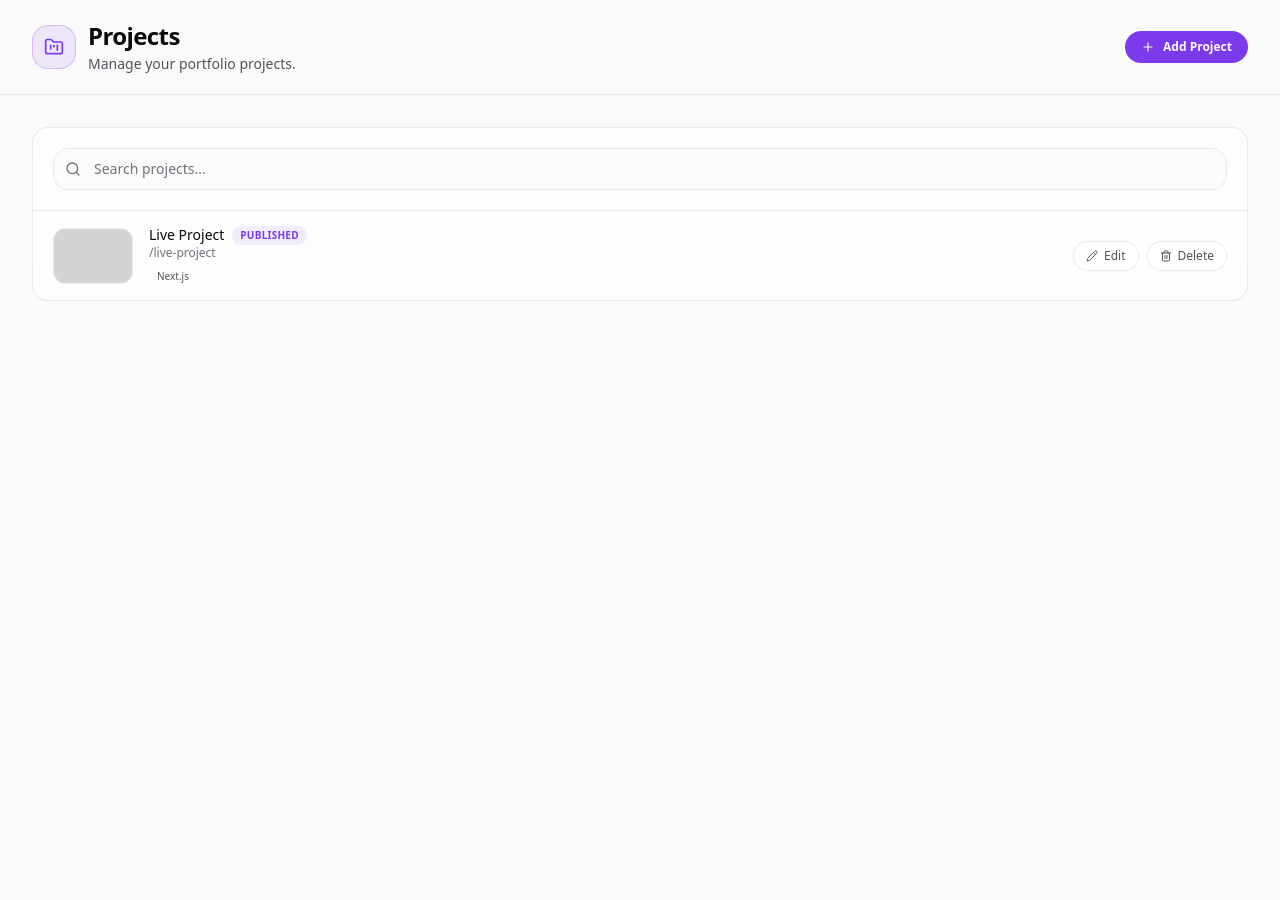
Test: ProjectsList setelah migrasi ke ConfirmActionDialog › cancel menutup dialog tanpa menghapus
What coordinates should you click on to do the following:
click the button "Delete"
I would click on:
 (1187, 256)
Its box is [1146,240,1227,270].
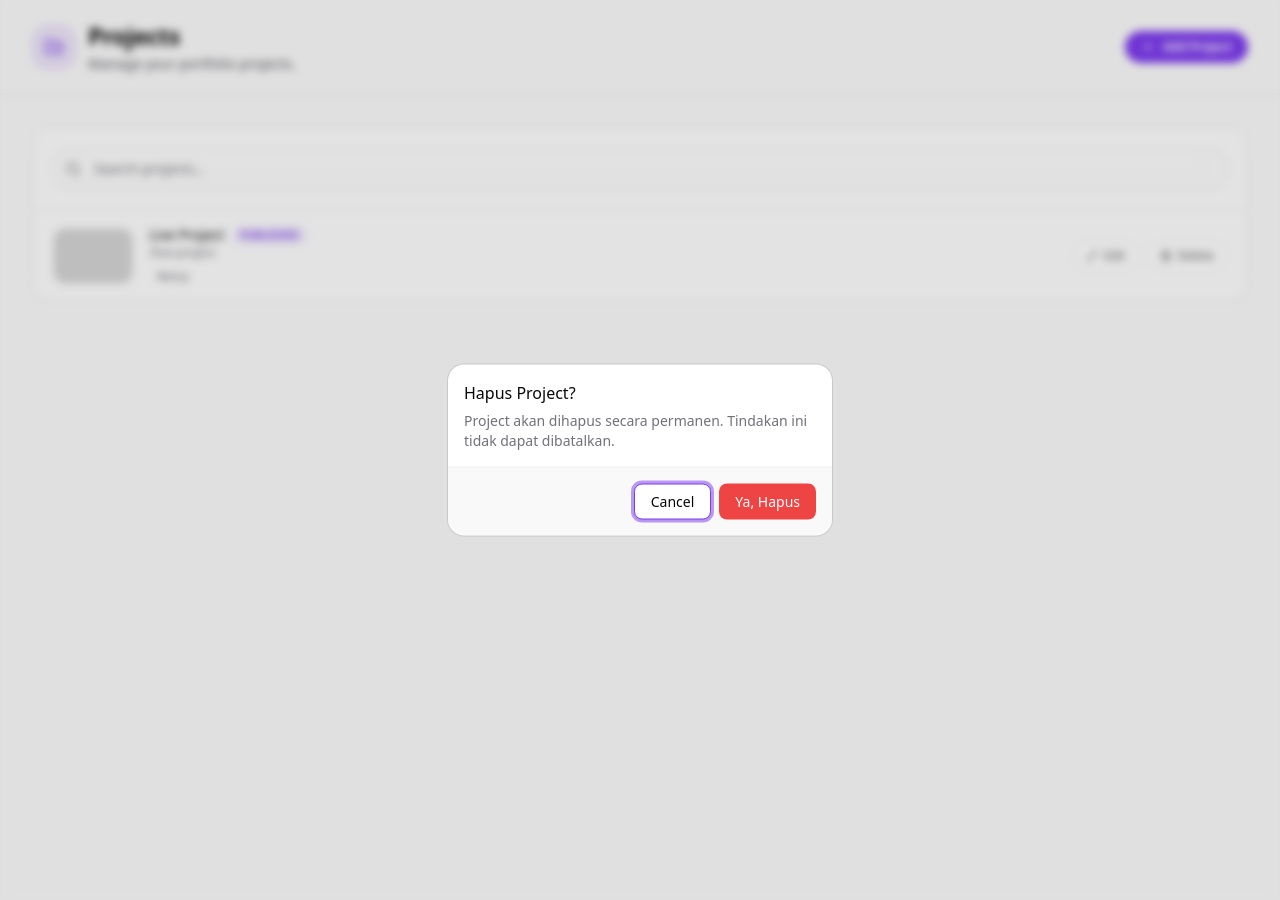
What coordinates should you click on to do the following:
click the button "Cancel"
I would click on:
 (672, 502)
Its box is [634,484,711,520].
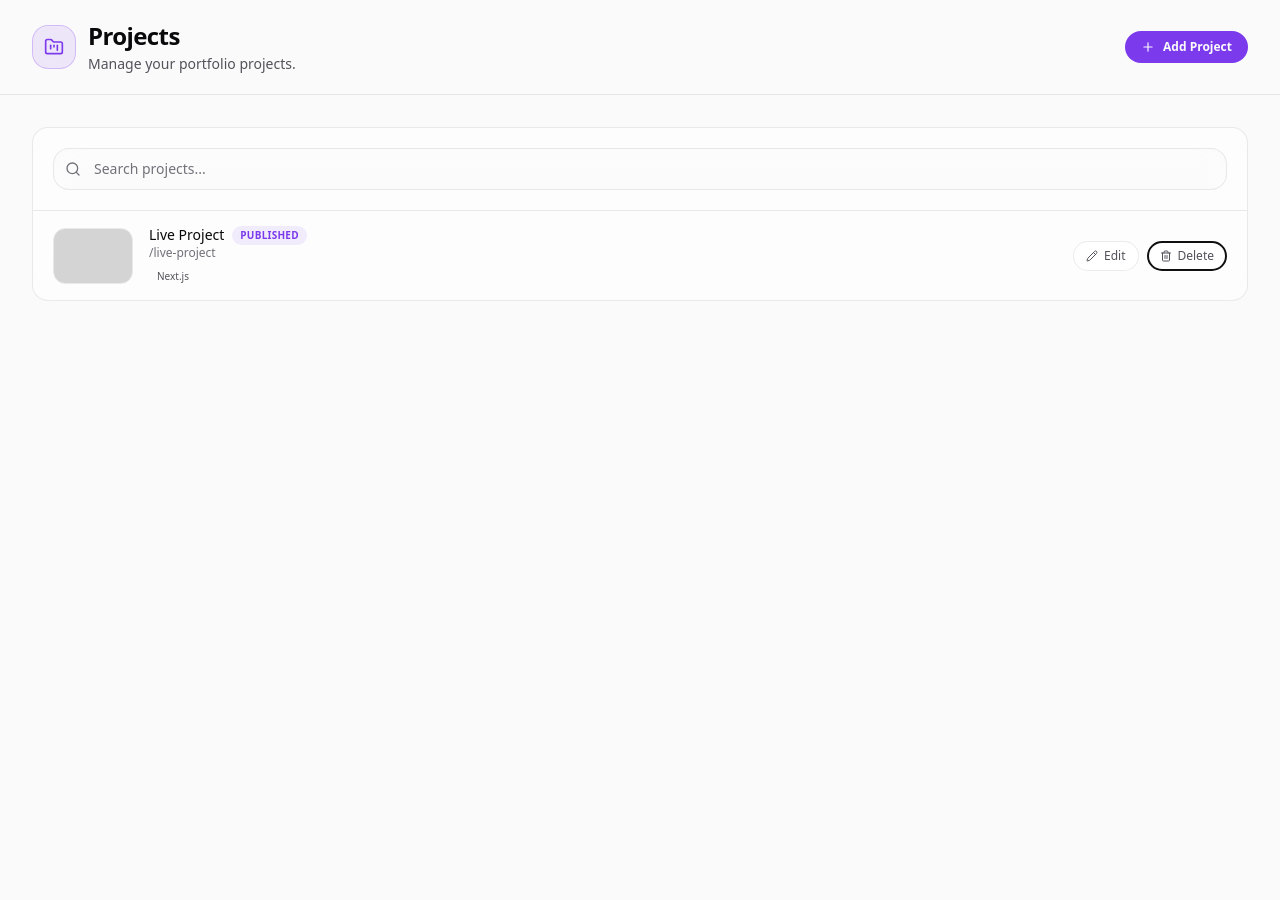
Now the heading "Hapus Project?" is gone
